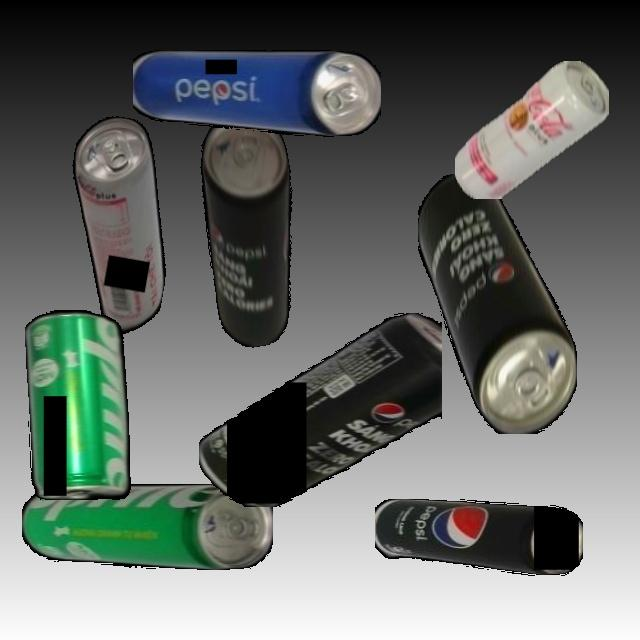debris: (199, 312, 442, 507), (417, 173, 577, 434), (44, 111, 191, 348), (186, 109, 319, 352), (21, 484, 273, 570), (132, 50, 381, 137), (454, 60, 609, 199), (25, 309, 131, 500), (374, 499, 583, 576)
